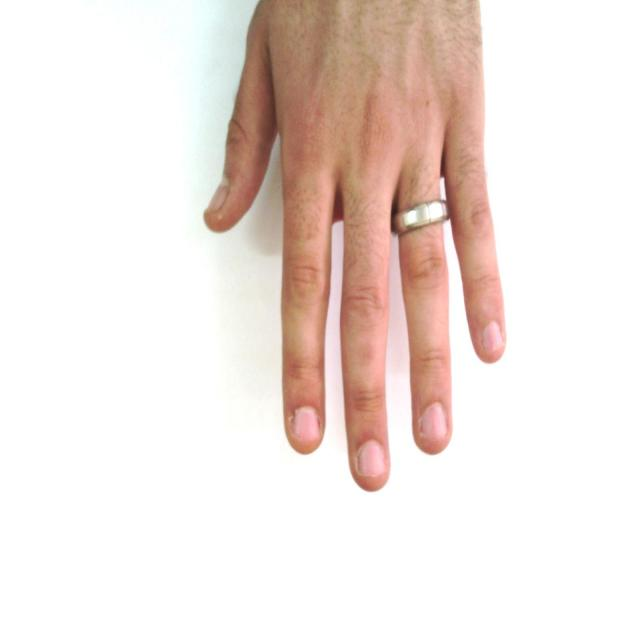others: (188, 1, 505, 492)
